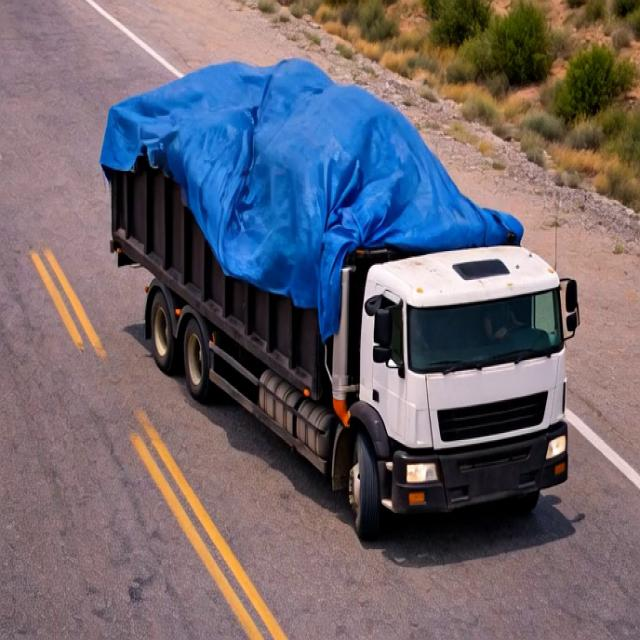Box: (110, 53, 528, 241)
Truck: (95, 20, 580, 541)
